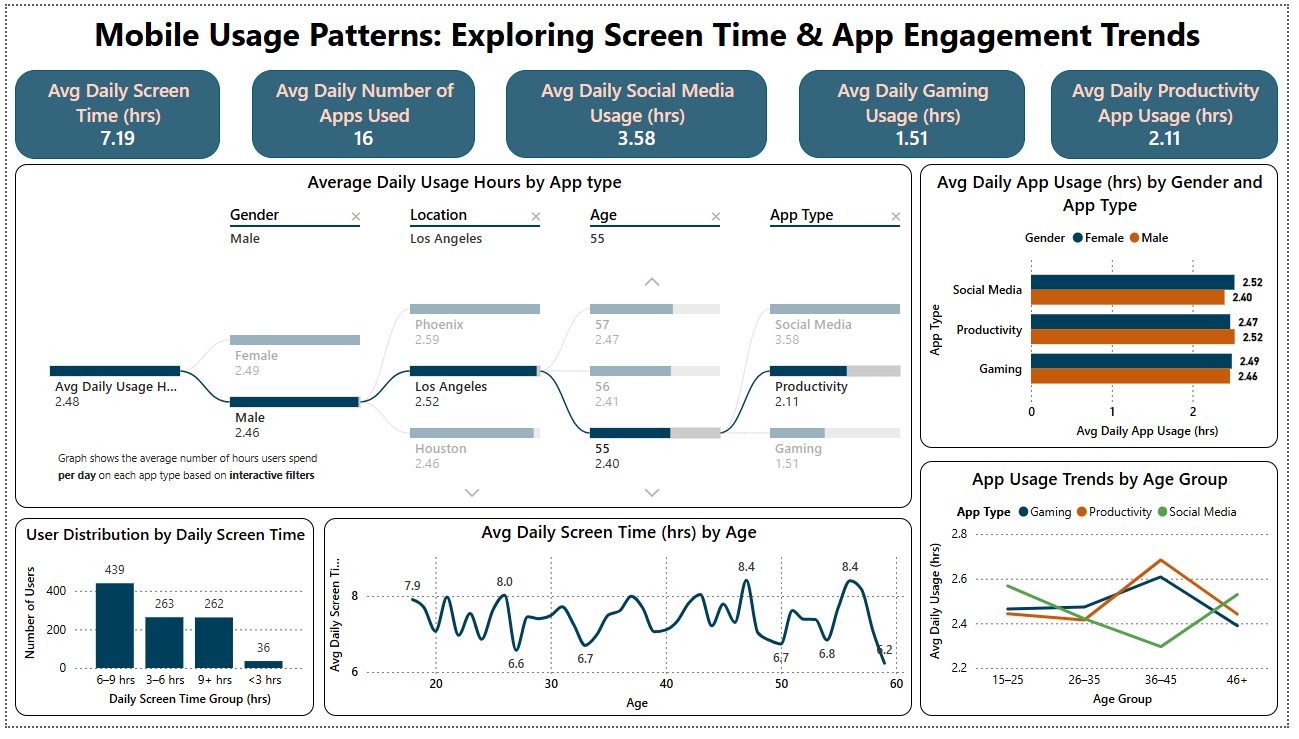

This screenshot's page, from the dashboard's own definition file:
{"tool":"powerbi","page":{"name":"Page 1","canvas":[1280,720],"ordinal":0},"visuals":[{"type":"textbox","box":[0,0,1280,75.8],"z":0},{"type":"decompositionTreeVisual","title":"Average Daily Usage Hours by App type","fields":{"ExplainBy":["mobile_usage_behavioral_analysis.Gender","mobile_usage_behavioral_analysis.Location","mobile_usage_behavioral_analysis.Age","App_Usage_By_Type.App_Usage_Type"],"Analyze":["App_Usage_By_Type.Avg Daily Usage Hours by App Type"]},"box":[8.1,157.6,897.3,343.9],"z":0,"group":"g1"},{"type":"card","title":"Avg Daily Screen Time (hrs)","fields":{"Values":["Avg(mobile_usage_behavioral_analysis.Daily_Screen_Time_Hours)"]},"box":[8.1,63.6,205.1,89],"z":1000},{"type":"card","title":"Avg Daily Number of Apps Used","fields":{"Values":["Avg(mobile_usage_behavioral_analysis.Number_of_Apps_Used)"]},"box":[245.4,63.6,223,88.7],"z":2000},{"type":"card","title":"Avg Daily Social Media Usage (hrs)","fields":{"Values":["Avg(mobile_usage_behavioral_analysis.Social_Media_Usage_Hours)"]},"box":[499,63.6,260.6,88.7],"z":3000},{"type":"card","title":"Avg Daily Productivity App Usage (hrs)","fields":{"Values":["Avg(mobile_usage_behavioral_analysis.Productivity_App_Usage_Hours)"]},"box":[1044.2,63.6,226.6,89],"z":4000},{"type":"card","title":"Avg Daily Gaming Usage (hrs)","fields":{"Values":["Avg(mobile_usage_behavioral_analysis.Gaming_App_Usage_Hours)"]},"box":[791.6,63.6,226.6,88.7],"z":5000},{"type":"lineChart","title":"Avg Daily Screen Time (hrs) by Age","fields":{"Y":["Avg(mobile_usage_behavioral_analysis.Daily_Screen_Time_Hours)"],"Category":["mobile_usage_behavioral_analysis.Age (bins)"]},"box":[317,512.2,588.4,197.9],"z":6000},{"type":"clusteredColumnChart","title":"User Distribution by Daily Screen Time","fields":{"Category":["mobile_usage_behavioral_analysis.ScreenTimeGroup"],"Y":["CountNonNull(mobile_usage_behavioral_analysis.User_ID)"]},"box":[8.1,512.2,299.1,197.9],"z":7000},{"type":"clusteredBarChart","title":"Avg Daily App Usage (hrs) by Gender and App Type","fields":{"Category":["App_Usage_By_Type.App Type"],"Y":["Avg(App_Usage_By_Type.Usage_Hours)"],"Series":["GenderLookup.Gender"]},"box":[913.4,157.6,357.3,284.8],"z":8000},{"type":"lineChart","title":"App Usage Trends by Age Group","fields":{"Y":["Avg(App_Usage_By_Type.Usage_Hours)"],"Series":["App_Usage_By_Type.App Type"],"Category":["App_Usage_By_Type.Age_Group"]},"box":[913.4,454.9,357.3,255.2],"z":9000},{"type":"textbox","box":[45.9,436.5,281.6,61.4],"z":11000,"group":"g1"},{"type":"group","id":"g1","title":"Group 1","box":[8.1,157.6,897.3,343.9],"z":11001}]}

Visuals, with their boxes in screenshot pixels (x1, y1, x2, y2), scaled from the page's 1280x720 canvas onto the 1299x739 screenshot:
textbox: [0,0,1298,78]
"Average Daily Usage Hours by App type" decompositionTreeVisual: [8,162,919,515]
"Avg Daily Screen Time (hrs)" card: [8,65,216,157]
"Avg Daily Number of Apps Used" card: [249,65,475,156]
"Avg Daily Social Media Usage (hrs)" card: [506,65,771,156]
"Avg Daily Productivity App Usage (hrs)" card: [1060,65,1290,157]
"Avg Daily Gaming Usage (hrs)" card: [803,65,1033,156]
"Avg Daily Screen Time (hrs) by Age" lineChart: [322,526,919,729]
"User Distribution by Daily Screen Time" clusteredColumnChart: [8,526,312,729]
"Avg Daily App Usage (hrs) by Gender and App Type" clusteredBarChart: [927,162,1290,454]
"App Usage Trends by Age Group" lineChart: [927,467,1290,729]
textbox: [47,448,332,511]
"Group 1" group: [8,162,919,515]
